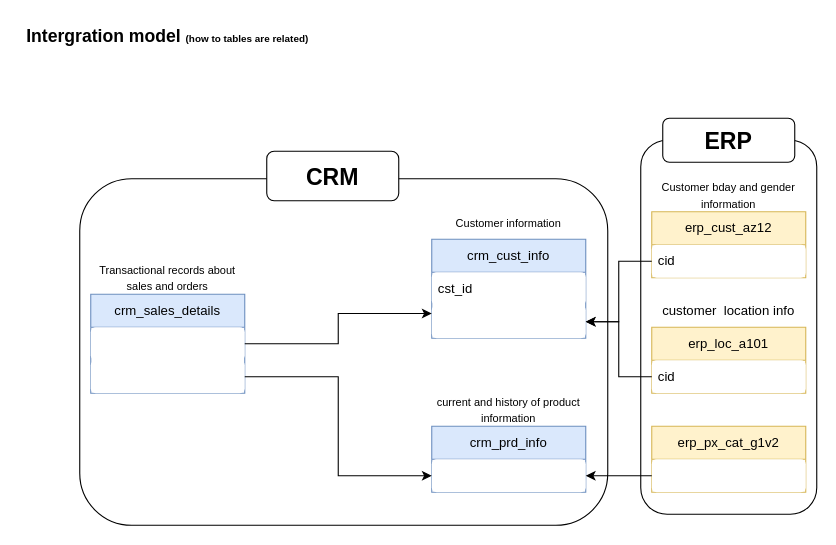
The diagram is 836 pixels wide and 545 high, and some of its shapes have lost their labels. The shapes that lost their labels are listed below. From the top down, each one's centre as x and y in pixels, then its label:
At [508,321]: "cst_key".
At [167,343]: "sls_cst_id".
At [167,376]: "sls_prd_key".
At [508,475]: "prd_key".
At [728,475]: "id".
